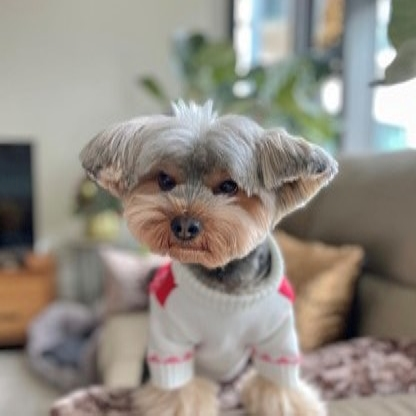yorkshire: (74, 99, 345, 416)
